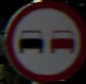No overtake: (9, 5, 81, 72)
